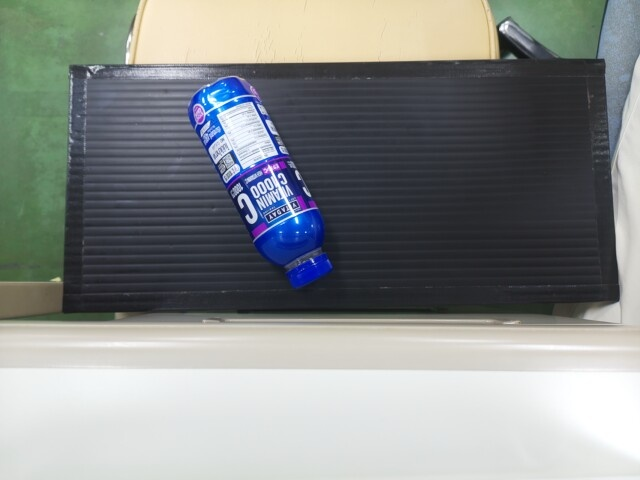plastic_bottle: (181, 67, 330, 285)
